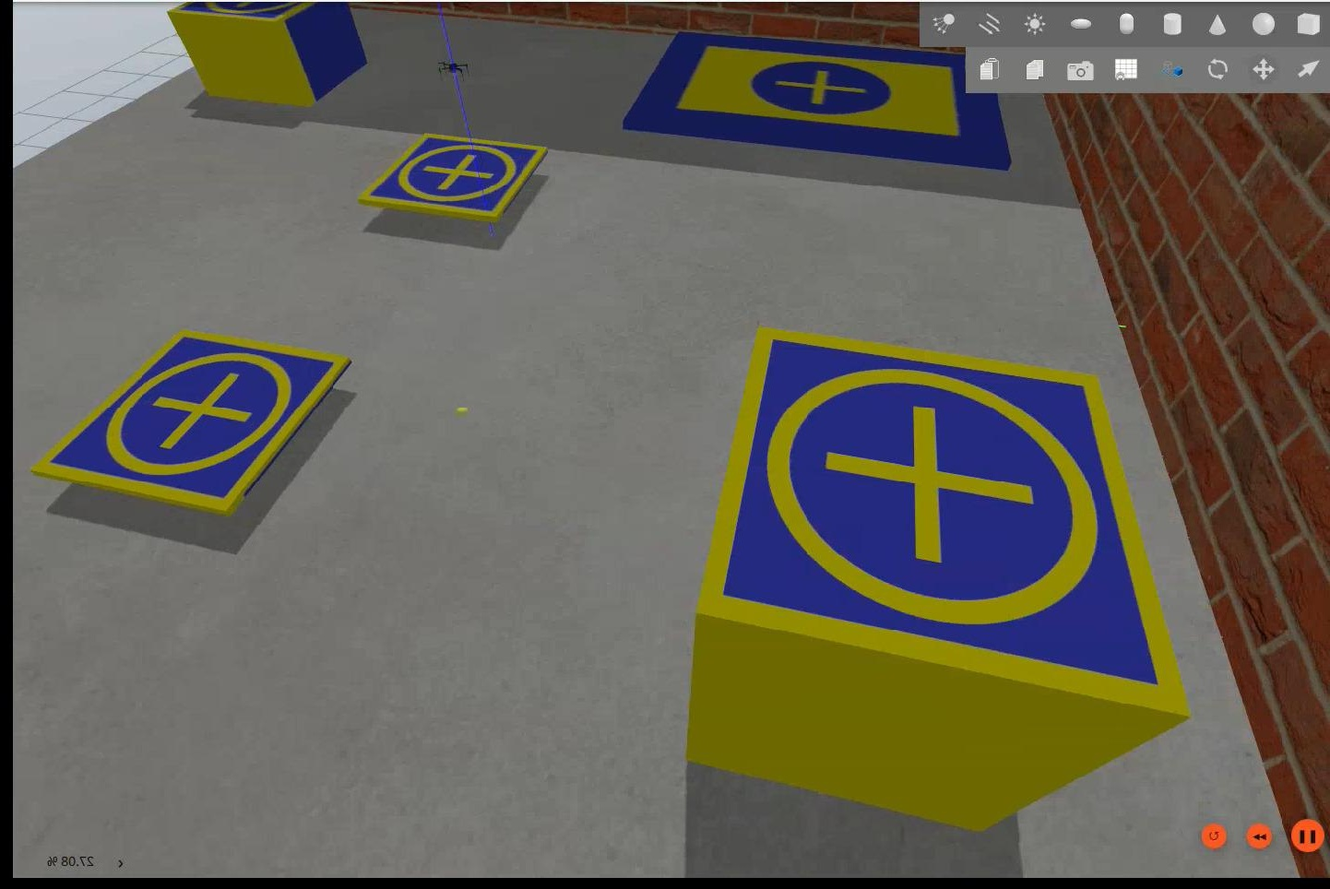large_base: (619, 31, 1012, 176)
small_base: (692, 328, 1193, 727), (30, 332, 347, 516), (355, 138, 546, 229), (164, 1, 350, 27)
